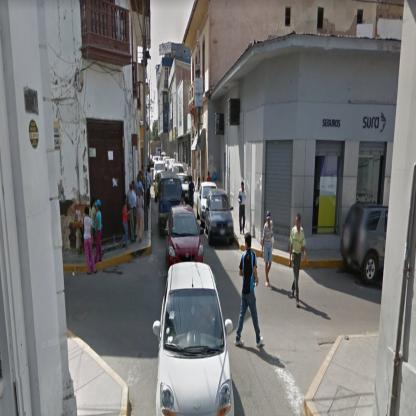Obstaculo: (317, 339, 339, 356)
Peaton: (236, 234, 265, 348), (289, 213, 307, 311), (82, 210, 97, 275), (262, 212, 275, 287), (127, 184, 139, 243), (96, 200, 104, 264), (137, 188, 146, 244), (122, 197, 131, 251), (238, 182, 247, 235), (132, 183, 138, 235)
Vehiculo: (154, 263, 236, 416), (341, 202, 390, 286), (165, 207, 205, 277), (206, 190, 235, 248), (159, 179, 185, 240), (197, 182, 218, 226)
